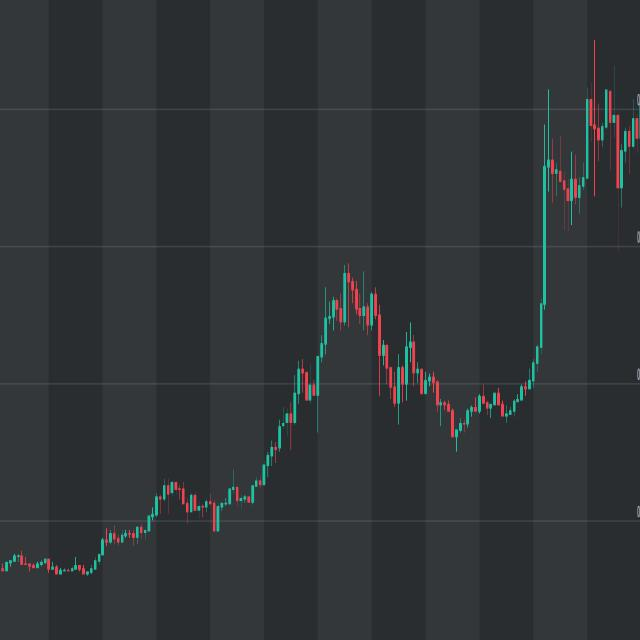Rising-Wedge: (527, 34, 640, 303)
